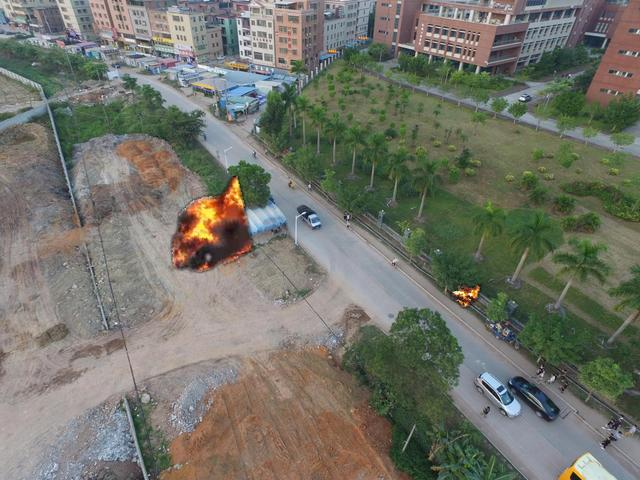fire: (169, 176, 255, 273), (450, 280, 480, 308)
